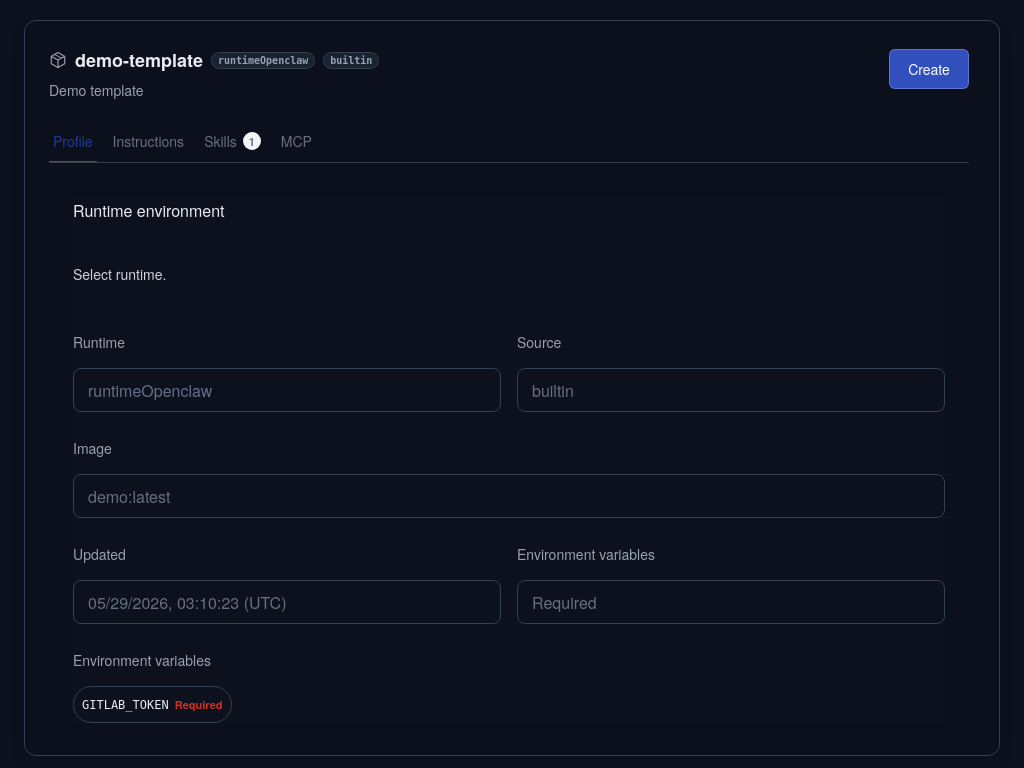
Test case: HubDetailPane › groups template details into runtime, instructions, skills, and MCP tabs
Expected: the field showing "demo:latest" is shown, [73, 474, 945, 518]
Expected: the 1st text "Environment variables" is shown, [517, 544, 655, 564]
What coordinates should you click on to do the following:
click the button "Instructions"
I would click on:
 (148, 147)
Its box is [109, 131, 188, 163].
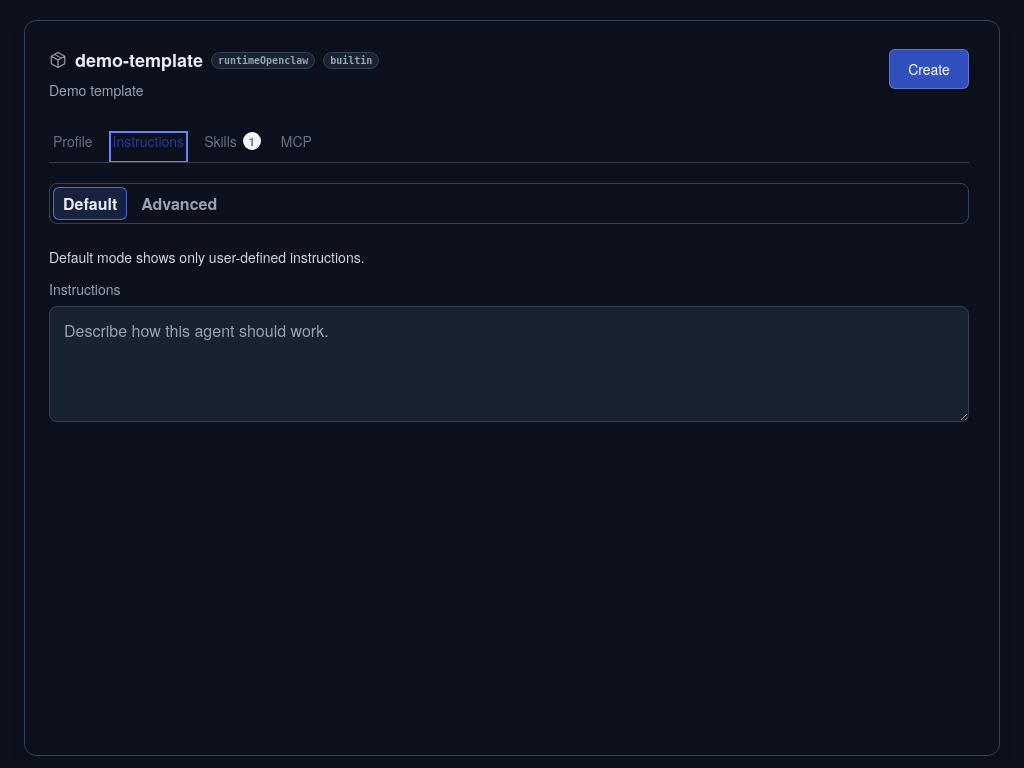
Expected: the button "Profile" is shown, [49, 131, 97, 163]
Now the text box with placeholder "Describe how this agent should work." is empty, box [49, 306, 969, 422]
Now the text "Default mode shows only user-defined instructions." is shown, box [49, 247, 365, 267]
What coordinates should you click on to do the following:
click the button "Advanced"
I would click on:
 (179, 204)
Its box is [131, 187, 227, 220].
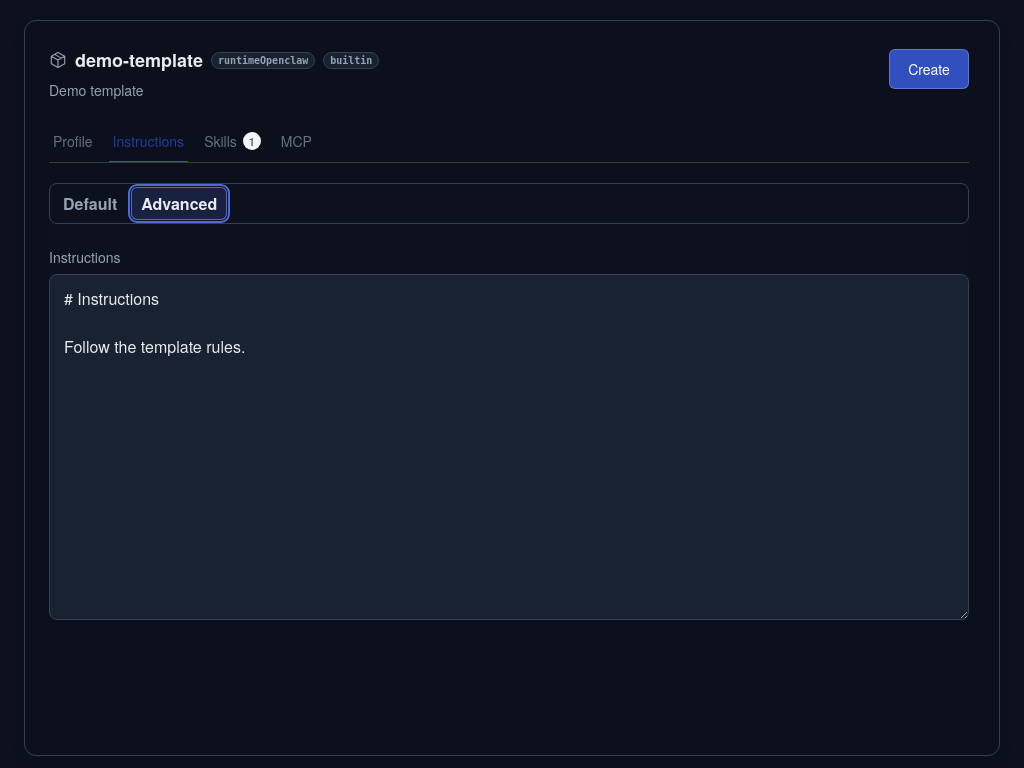
What coordinates should you click on to do the following:
click the button "Skills 1"
I would click on:
 (232, 147)
Its box is [200, 131, 265, 163].
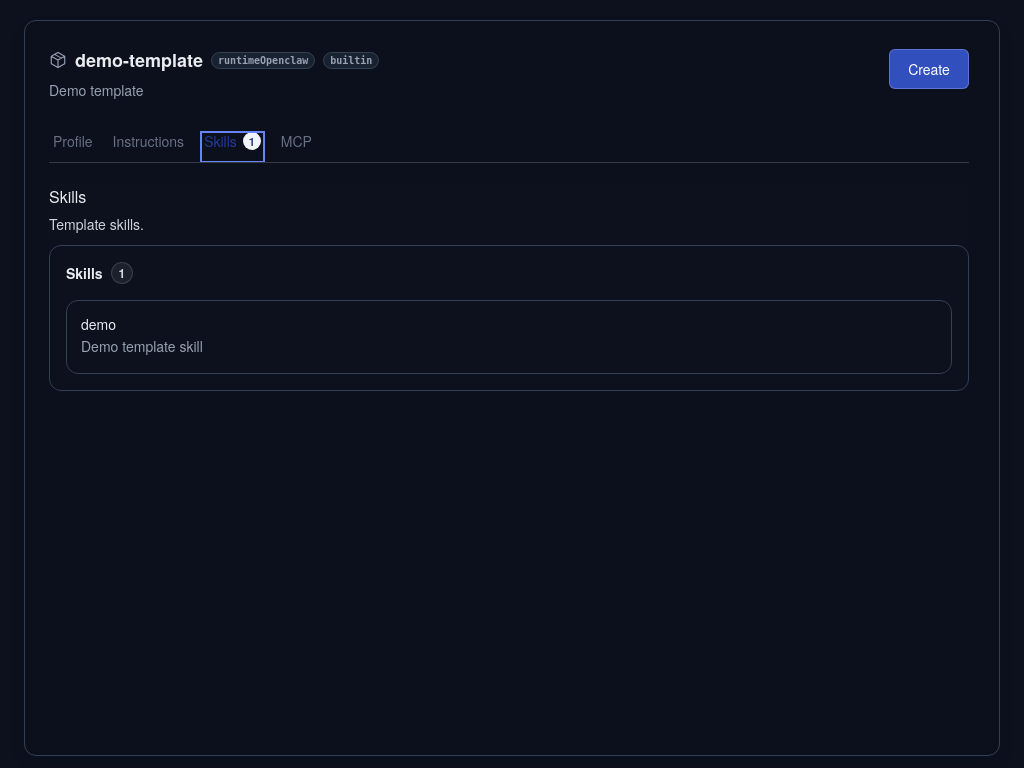
Now the text "demo" is shown, box [81, 313, 116, 335]
Now the text "Demo template skill" is shown, box [81, 336, 203, 356]
What coordinates should you click on to do the following:
click the button "MCP"
I would click on:
 (296, 147)
Its box is [277, 131, 316, 163].
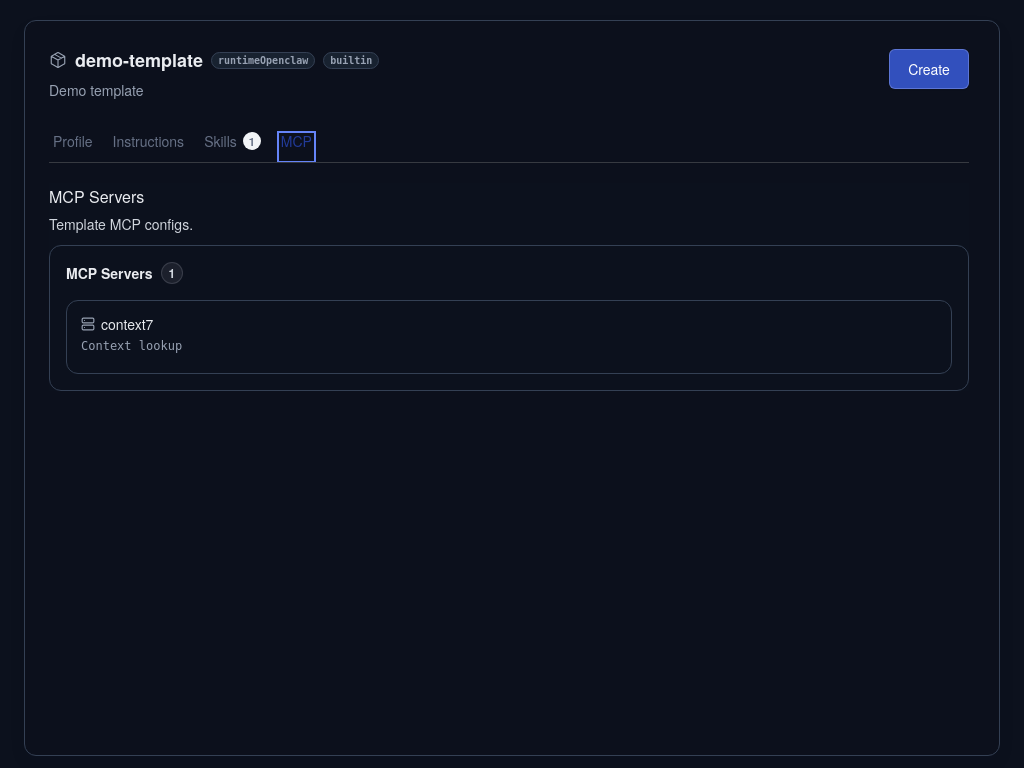
Now the text "context7" is shown, box [101, 313, 153, 335]
Now the text "Context lookup" is shown, box [81, 339, 182, 353]
